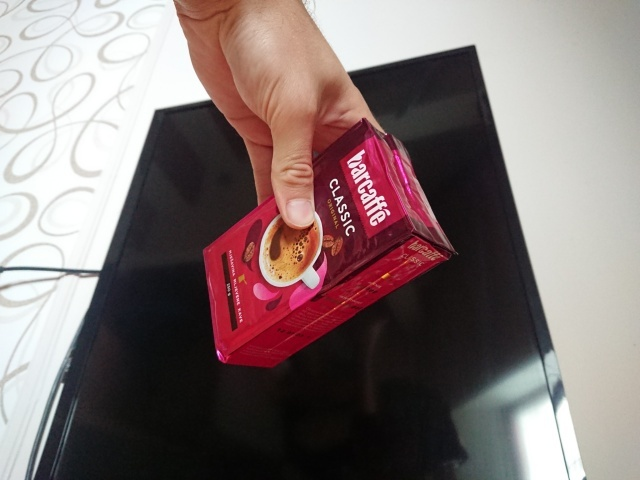Barcaffe Classic Original 225g: (198, 115, 463, 371)
